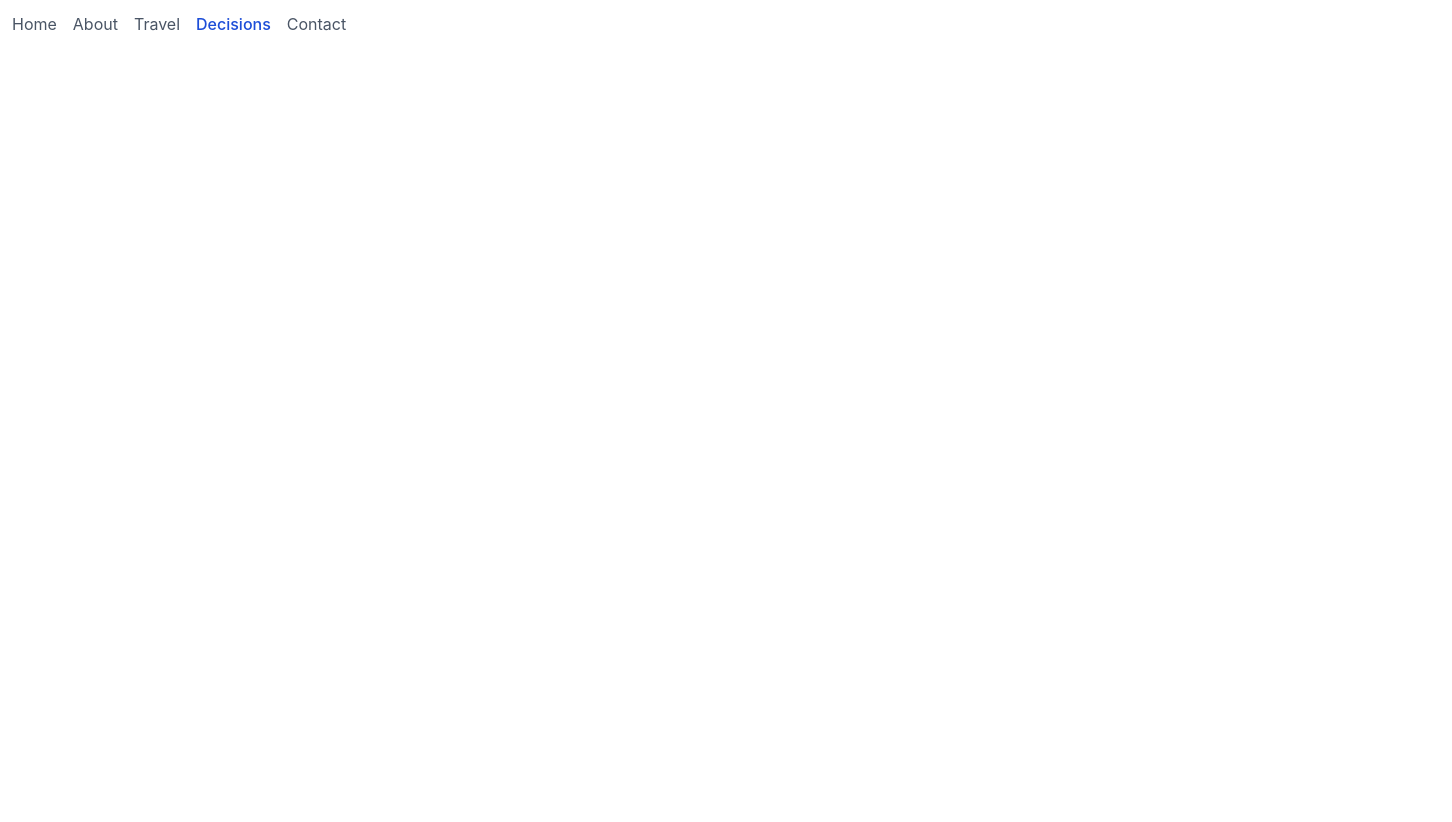
Test: NavLinks › closes when clicking outside
Click the button "Decisions" at point(233, 24), box 196,12 -> 271,36
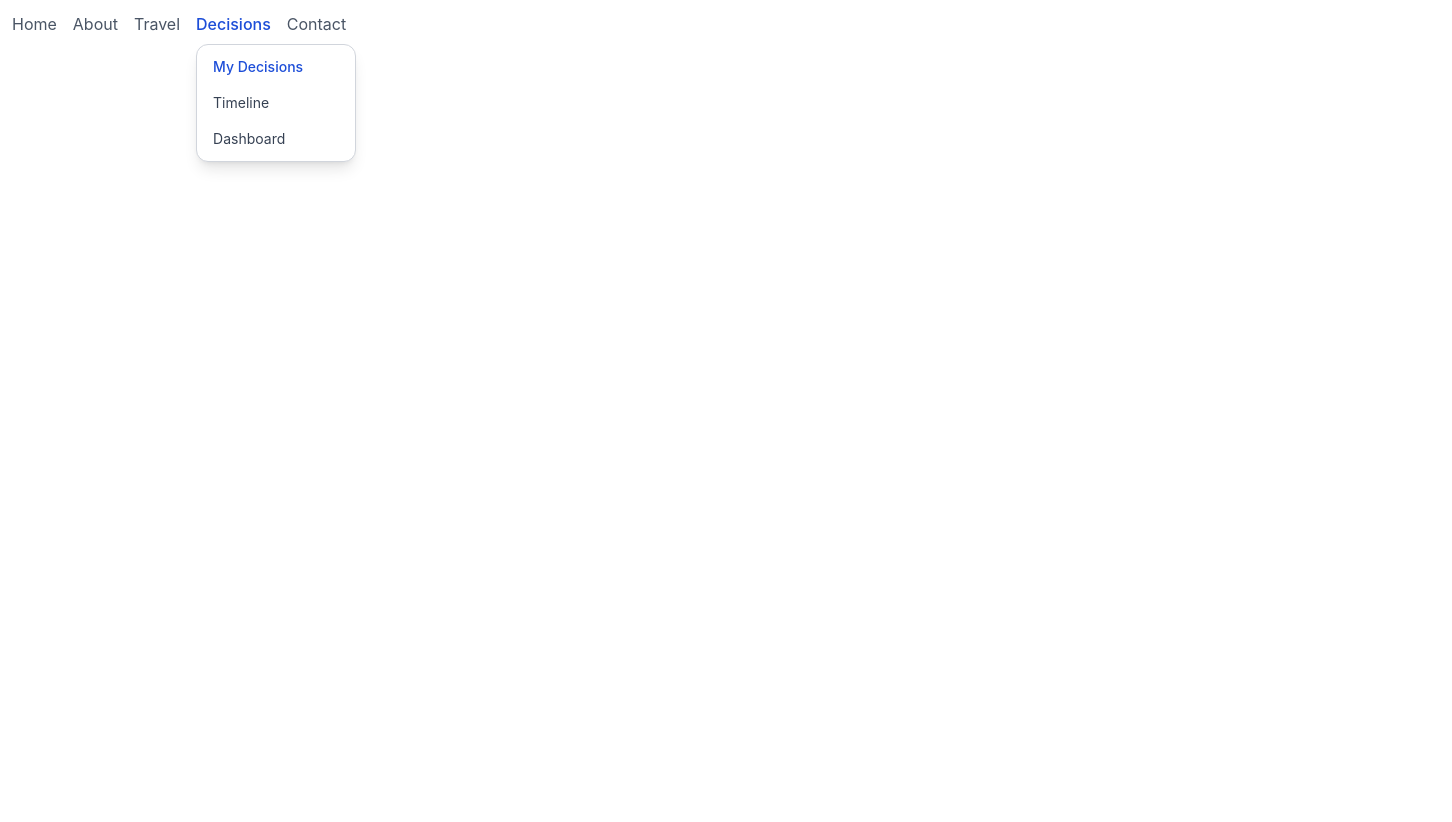
expect the menu is shown: met, box 196,44 -> 356,162
Press the mouse on the element that starts with "Home" at point(732, 417), box 12,12 -> 1451,821
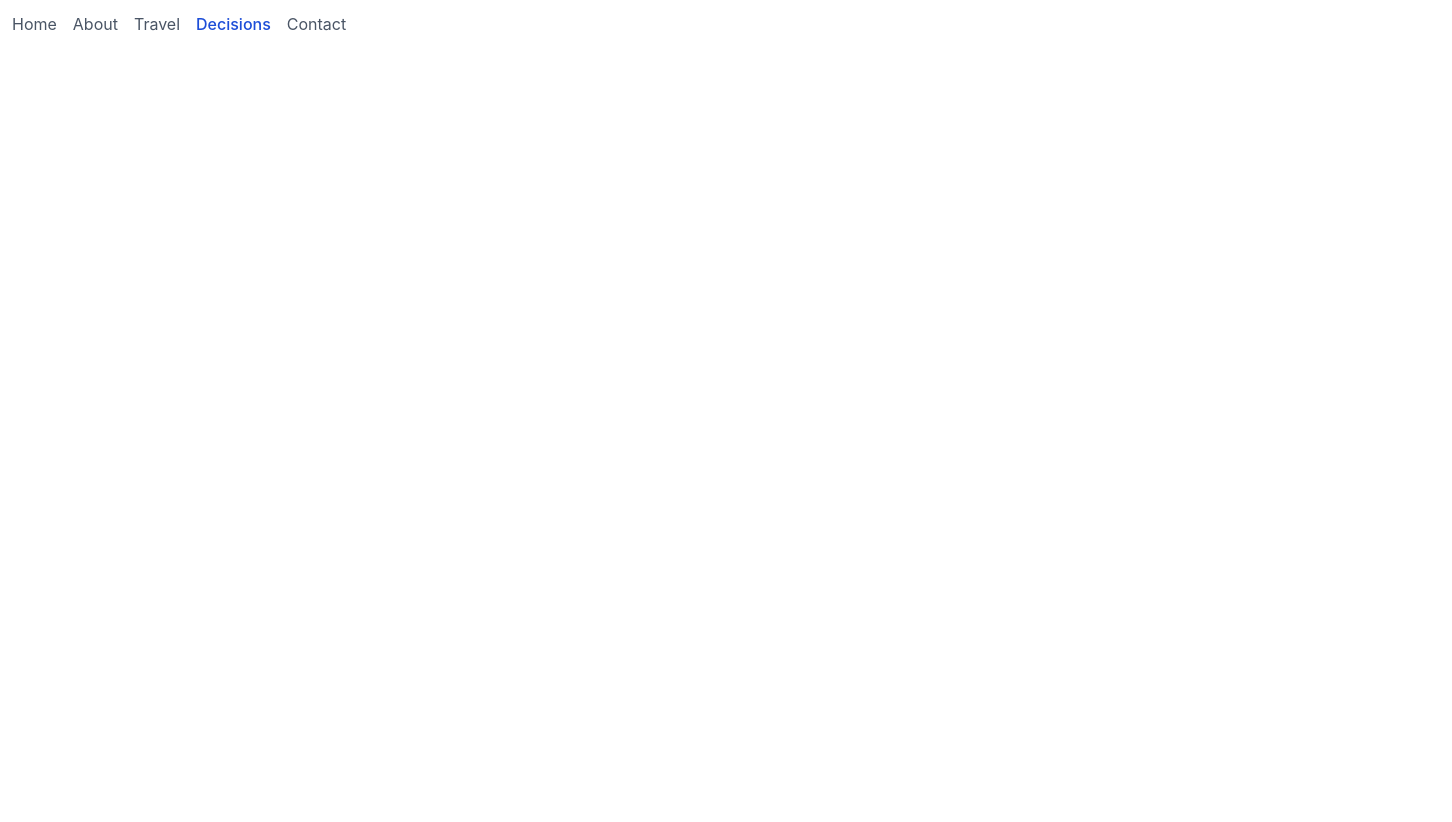
expect the menu is gone: met
